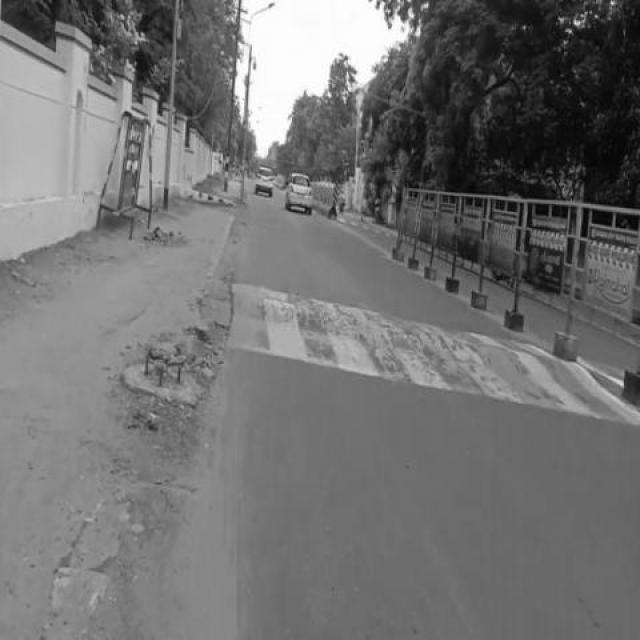Speed Bump: (225, 282, 444, 390), (444, 328, 552, 413), (553, 358, 623, 418)
